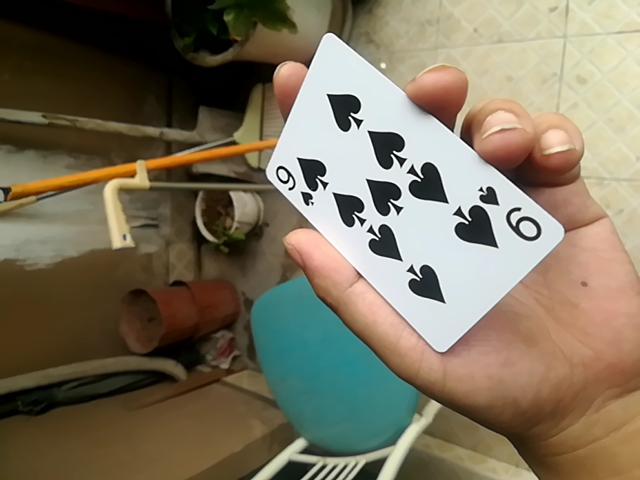ht 9: (254, 33, 561, 364)
